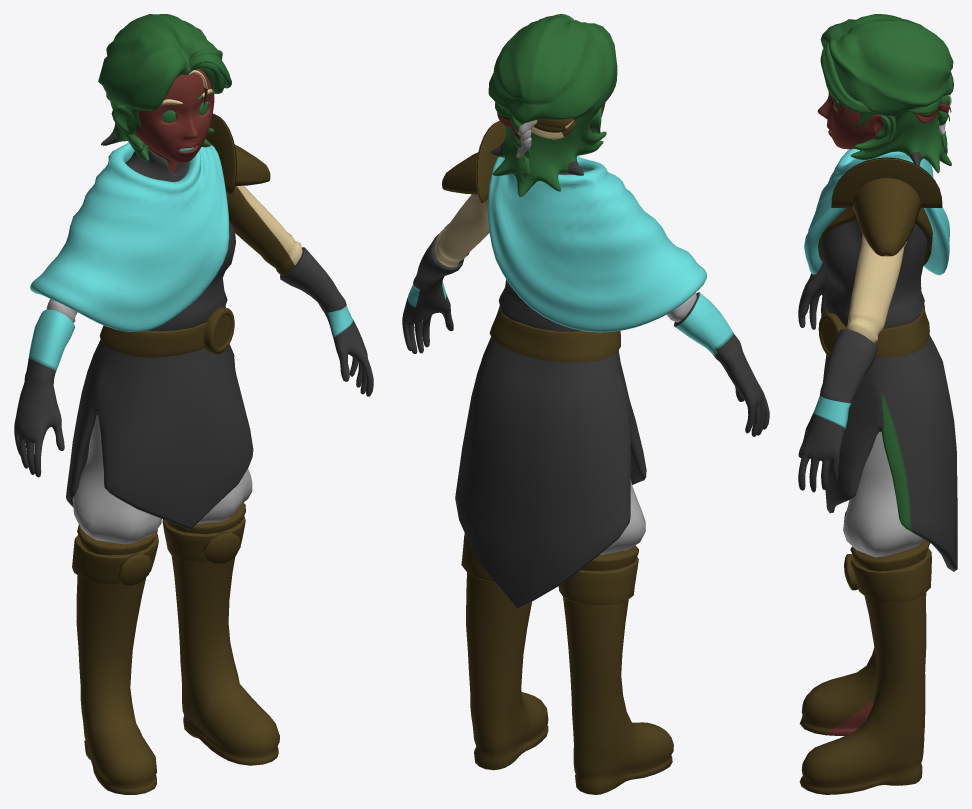
File: Isra_low.fbx
The picture shows the model from 3 angles, left to right: view 1: azimuth 30°, elevation 25°; view 2: azimuth 150°, elevation 25°; view 3: azimuth 270°, elevation 25°; orthographic projection. The views are drawn at different scales.
Visible parts, largest first — view 1: Tunic_low, Boots_low, Shawl_low, Gloves_low, Hair_low, Legs_low, Head_low, Kneepads_low, Belt_low, Shoulder_low, Pendant_low; view 2: Tunic_low, Shawl_low, Boots_low, Hair_low, Gloves_low, Belt_low, Kneepads_low, Shoulder_low, Legs_low, HairBraid_low, HairBack_low; view 3: Tunic_low, Boots_low, Hair_low, Gloves_low, Shoulder_low, Legs_low, Shawl_low, Kneepads_low, Head_low, Belt_low, HairFlyaway1_low, Sling_low (+3 smaller).
Boxes of the visible parts, box(x1,y1,x2,y2) form: Tunic_low: box(46, 149, 302, 530); Boots_low: box(76, 503, 279, 794); Shawl_low: box(30, 142, 229, 332); Gloves_low: box(14, 247, 373, 477); Hair_low: box(98, 14, 224, 161); Legs_low: box(72, 415, 252, 544); Head_low: box(111, 69, 214, 173); Kneepads_low: box(72, 516, 245, 586); Belt_low: box(99, 306, 225, 357); Shoulder_low: box(205, 113, 270, 194); Pendant_low: box(204, 307, 234, 354); Tunic_low: box(435, 156, 696, 608); Shawl_low: box(488, 156, 706, 332); Boots_low: box(466, 545, 673, 794); Hair_low: box(488, 14, 617, 196); Gloves_low: box(402, 234, 769, 436); Belt_low: box(489, 305, 620, 362); Kneepads_low: box(461, 533, 638, 605); Shoulder_low: box(442, 121, 505, 203); Legs_low: box(599, 479, 645, 554); HairBraid_low: box(509, 113, 537, 182); HairBack_low: box(495, 102, 576, 139); Tunic_low: box(820, 150, 957, 571); Boots_low: box(799, 540, 929, 794); Hair_low: box(820, 14, 953, 172); Gloves_low: box(798, 263, 877, 492); Shoulder_low: box(831, 157, 942, 256); Legs_low: box(843, 431, 924, 557); Shawl_low: box(804, 149, 949, 275); Kneepads_low: box(844, 511, 931, 602); Head_low: box(817, 92, 890, 150); Belt_low: box(824, 304, 929, 357); HairFlyaway1_low: box(821, 42, 895, 142); Sling_low: box(818, 208, 932, 265).
Bounding box in the file's own units: 2.24 × 4.53 × 0.8906.
Materials: 1 (1 with a texture image).
